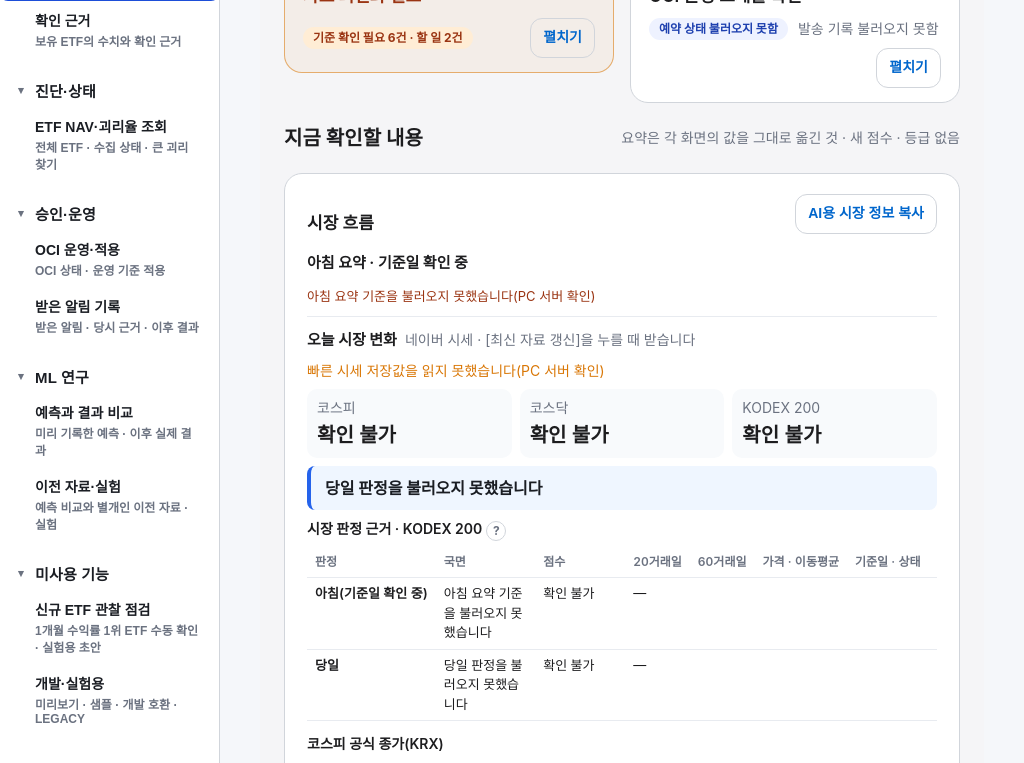
Test: MainPanel 「미사용 기능 › 신규 ETF 관찰 점검」 관통 › 메뉴 → 페이지(요청 0) · 사이드바 현재 위치 = 그 메뉴 하나 · 「미사용 기능」 그룹 펼침 · 활성
(page scrolled)
What coordinates should you click on to do the following:
click the button "신규 ETF 관찰 점검"
I would click on:
 (110, 627)
Its box is [0,590,219,664].
(page scrolled)
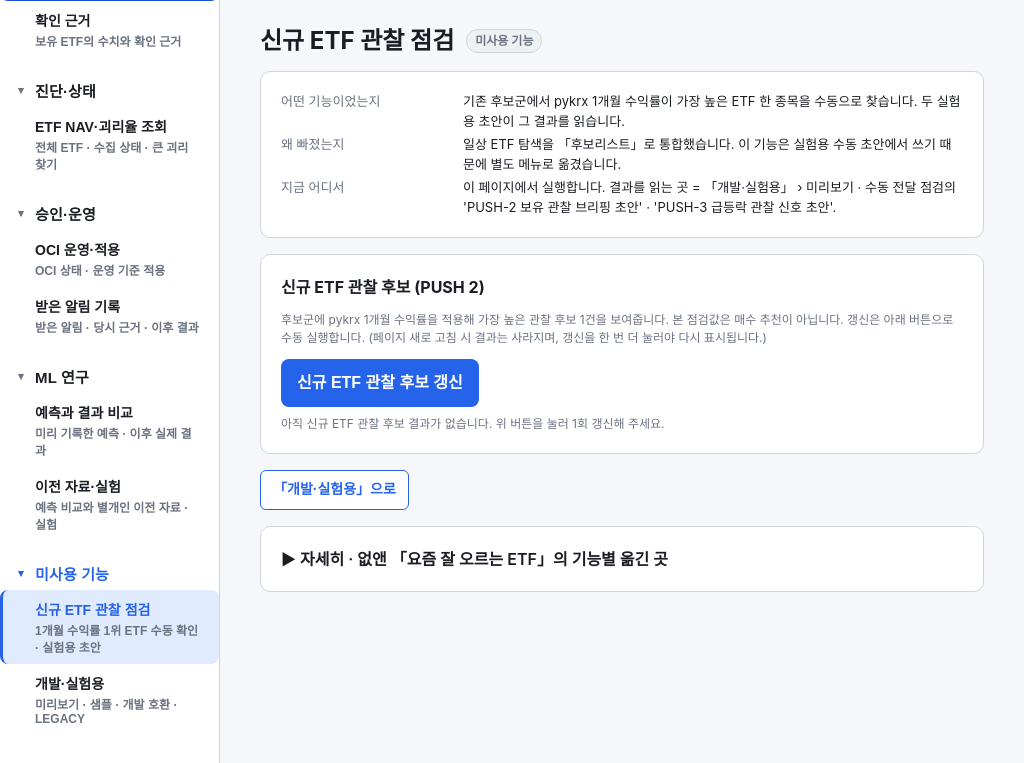
expect the number of elements with class "active-group" is 1: met, box [0,549,219,735]
expect the heading "신규 ETF 관찰 점검" is shown: met, box [260,23,454,59]
expect the button "신규 ETF 관찰 후보 갱신" is shown: met, box [281,359,479,407]
